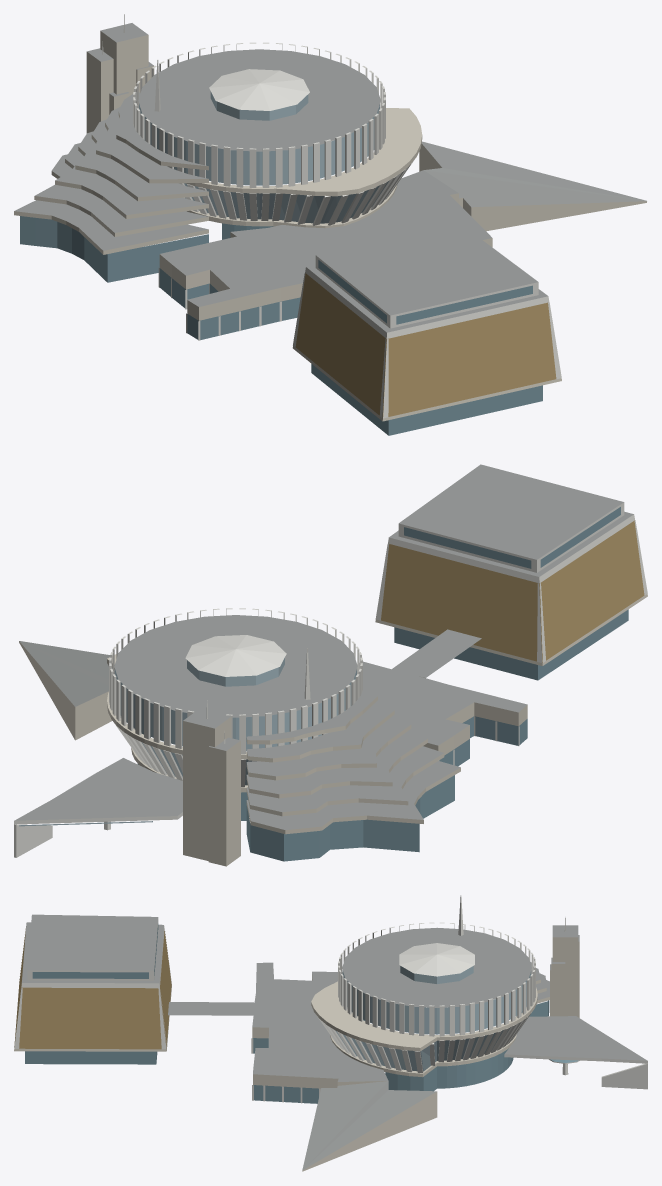
The model's file is casino-de-montreal-far.glb.
3 renders of one model, top to bottom at view 1: azimuth 30°, elevation 25°; view 2: azimuth 150°, elevation 25°; view 3: azimuth 270°, elevation 25°, orthographic. The views are drawn at different scales.
Parts seen in each view (by area): view 1: casino-de-montreal-0-roof, casino-de-montreal-0-concrete, casino-de-montreal-0-goldMid, casino-de-montreal-0-alu, casino-de-montreal-0-glass, casino-de-montreal-0-glow; view 2: casino-de-montreal-0-roof, casino-de-montreal-0-goldMid, casino-de-montreal-0-concrete, casino-de-montreal-0-alu, casino-de-montreal-0-glass, casino-de-montreal-0-glow; view 3: casino-de-montreal-0-roof, casino-de-montreal-0-alu, casino-de-montreal-0-concrete, casino-de-montreal-0-goldMid, casino-de-montreal-0-glass, casino-de-montreal-0-glow.
Boxes of the visible parts, left/top/right/bottom form: casino-de-montreal-0-roof: left=14, top=23, right=646, bottom=332; casino-de-montreal-0-concrete: left=14, top=31, right=646, bottom=421; casino-de-montreal-0-goldMid: left=295, top=273, right=556, bottom=417; casino-de-montreal-0-alu: left=102, top=14, right=561, bottom=418; casino-de-montreal-0-glass: left=20, top=216, right=542, bottom=435; casino-de-montreal-0-glow: left=139, top=91, right=389, bottom=223; casino-de-montreal-0-roof: left=14, top=464, right=633, bottom=829; casino-de-montreal-0-goldMid: left=381, top=520, right=644, bottom=662; casino-de-montreal-0-concrete: left=19, top=594, right=647, bottom=866; casino-de-montreal-0-alu: left=14, top=502, right=647, bottom=857; casino-de-montreal-0-glass: left=137, top=507, right=628, bottom=861; casino-de-montreal-0-glow: left=19, top=657, right=356, bottom=826; casino-de-montreal-0-roof: left=22, top=914, right=647, bottom=1170; casino-de-montreal-0-alu: left=14, top=895, right=647, bottom=1103; casino-de-montreal-0-concrete: left=14, top=937, right=579, bottom=1171; casino-de-montreal-0-goldMid: left=14, top=929, right=171, bottom=1049; casino-de-montreal-0-glass: left=25, top=923, right=578, bottom=1103; casino-de-montreal-0-glow: left=335, top=966, right=531, bottom=1071.
Bounding box in the file's own units: 146 × 44 × 198.
